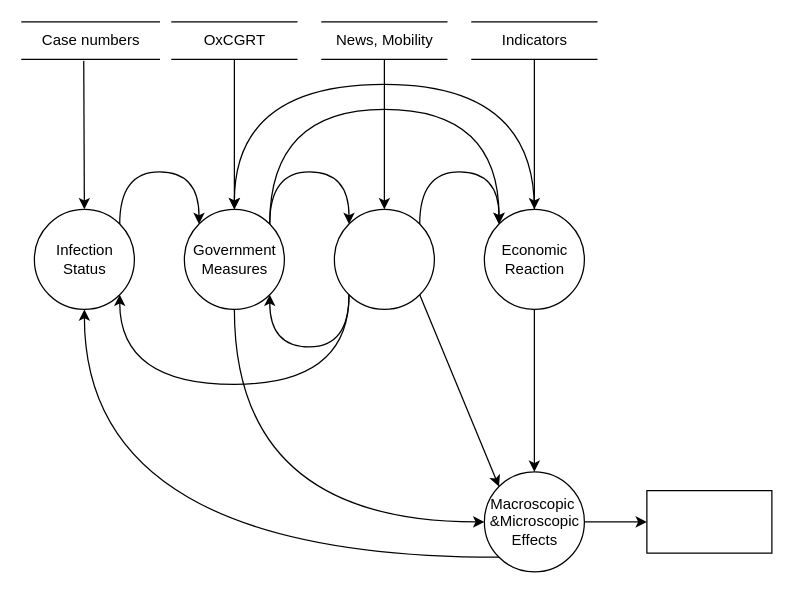
Image size: 794x594. Some labels were removed from this diagram. The shapes that lost their labels are listed below. From the top down, each one's centre as x and y in pixels, then its label:
the point at 383,258: Public Reaction
the point at 709,521: Dashboard
